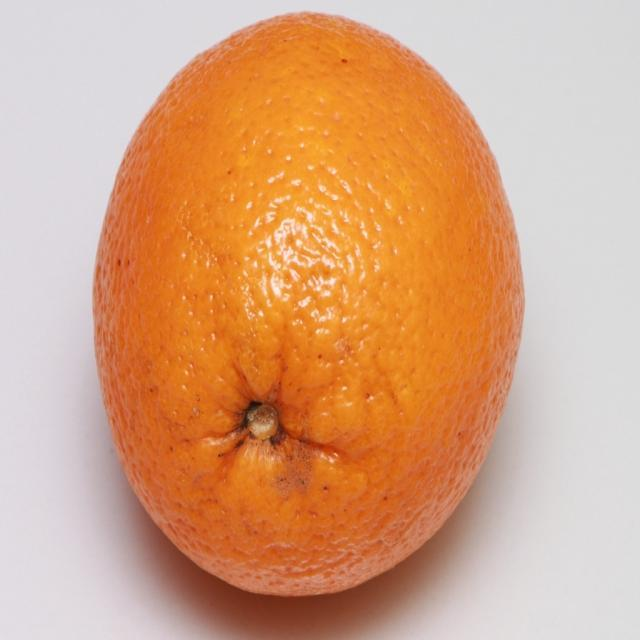Orange: (75, 20, 537, 601)
